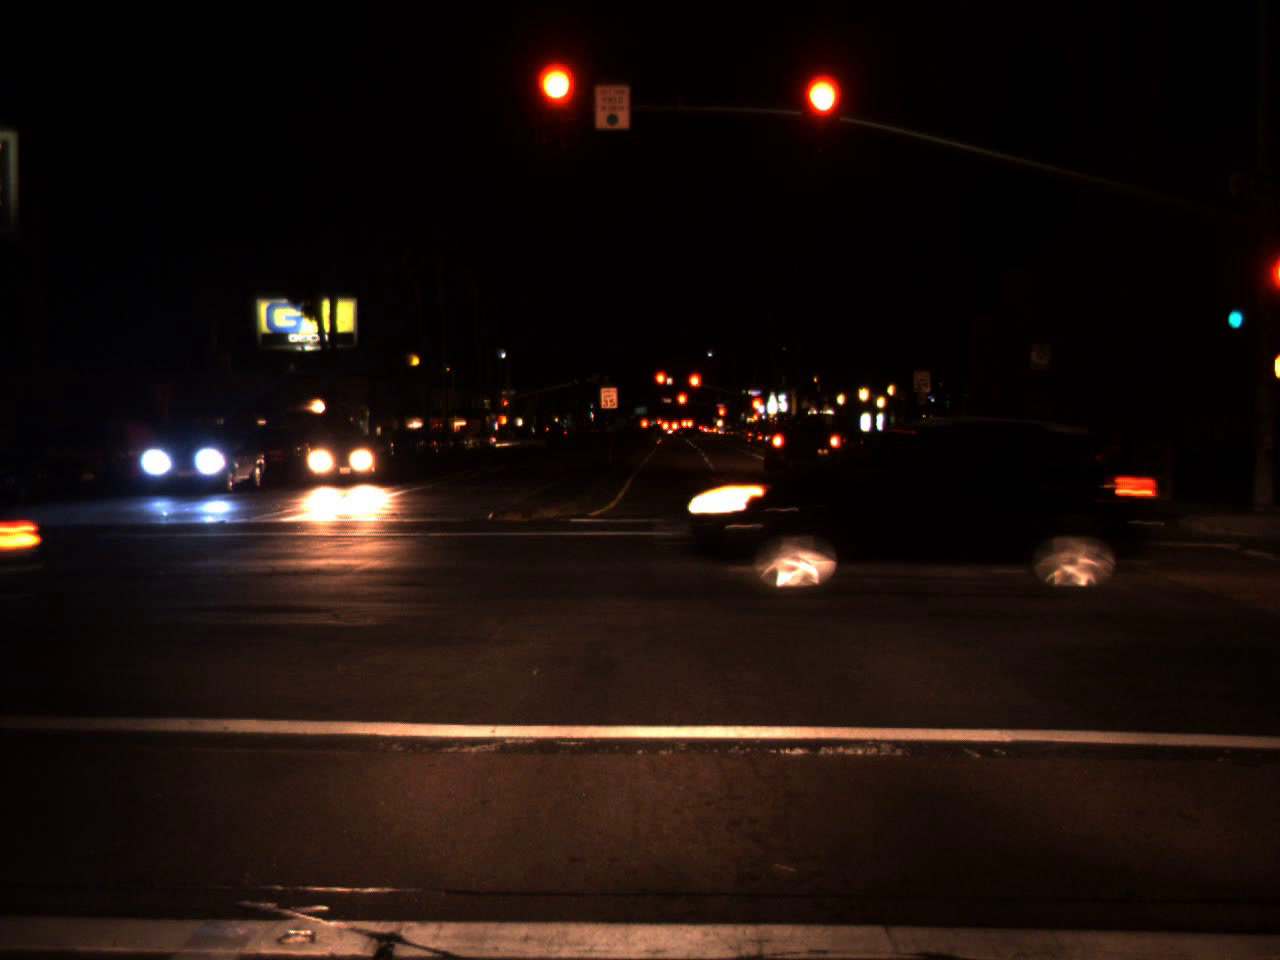stop: (538, 64, 578, 142), (802, 75, 842, 153), (686, 372, 702, 401), (653, 370, 666, 399), (675, 391, 688, 418), (749, 396, 764, 412), (717, 406, 726, 427), (503, 398, 509, 414)
